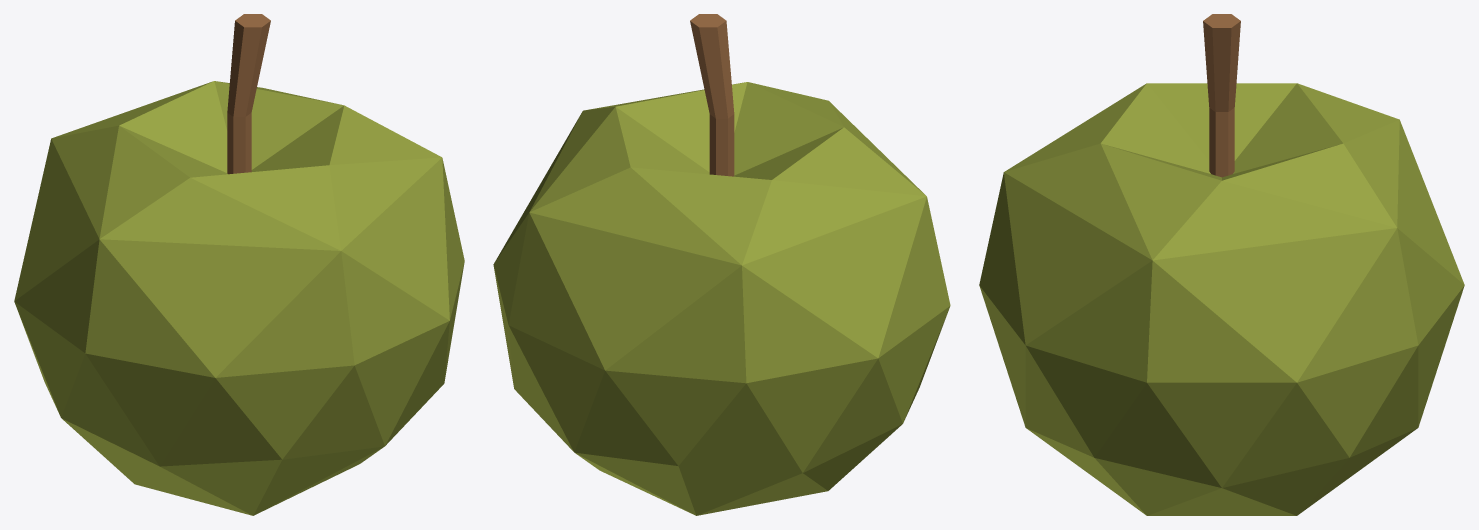
The model's file is SM_Food_Apple_01.fbx.
3 views of the same model, side by side, from view 1: azimuth 30°, elevation 25°; view 2: azimuth 150°, elevation 25°; view 3: azimuth 270°, elevation 25° (orthographic). The views are drawn at different scales.
Visible parts, largest first — view 1: SM_Food_Apple_01; view 2: SM_Food_Apple_01; view 3: SM_Food_Apple_01.
Boxes of the visible parts, <box> form: SM_Food_Apple_01: <box>14,14,464,515</box>; SM_Food_Apple_01: <box>493,14,950,515</box>; SM_Food_Apple_01: <box>979,14,1464,515</box>.
Size of the model in its own units: 0.1034 by 0.121 by 0.1087.
